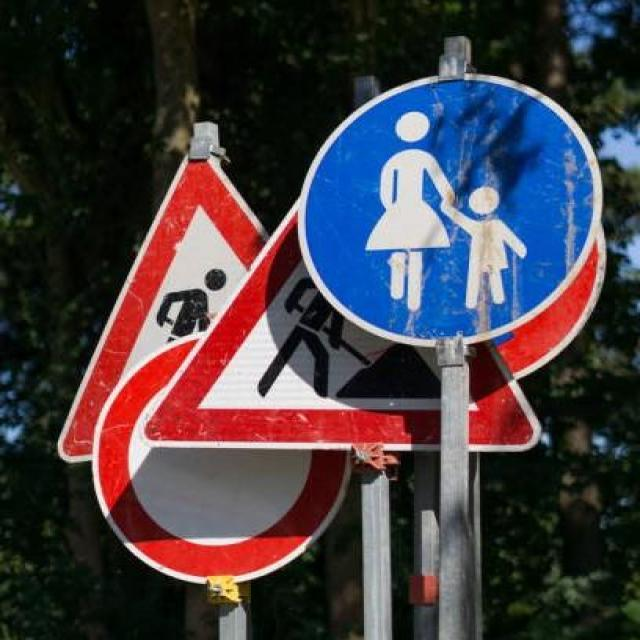obstructed_road_sign: (144, 200, 538, 447), (92, 336, 352, 584), (62, 155, 270, 458)
road_sign: (299, 74, 602, 346)
